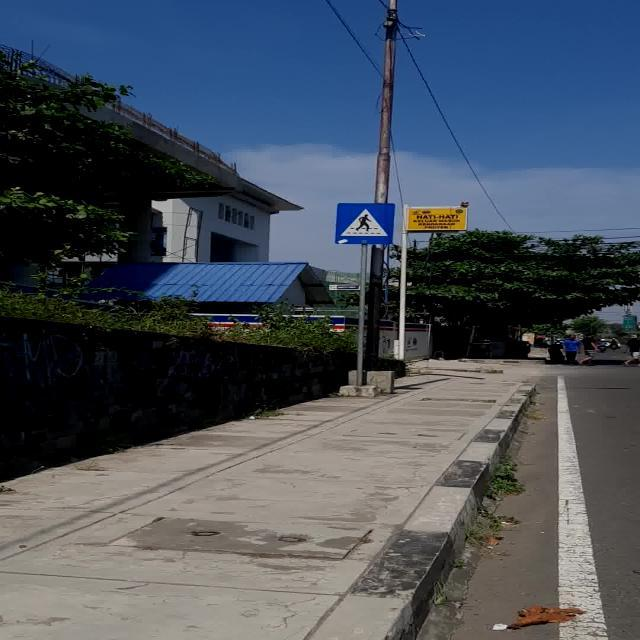Perintah Jalur Penyebrangan: (334, 203, 396, 244)
